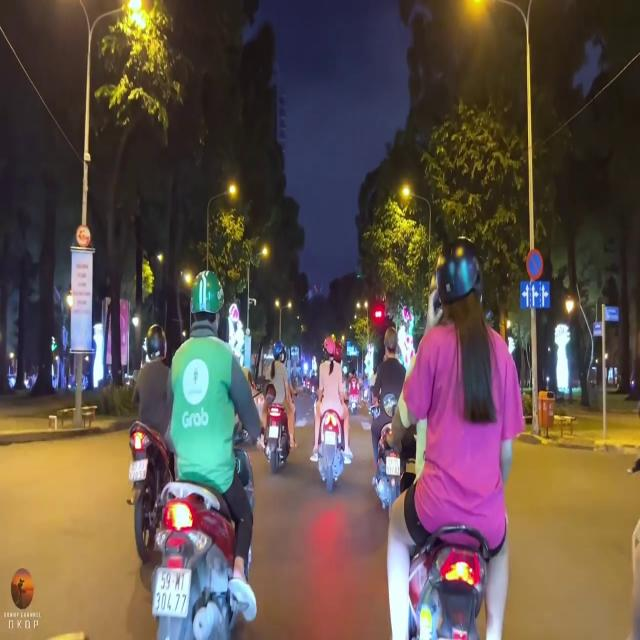bien_trang: (150, 561, 193, 613)
